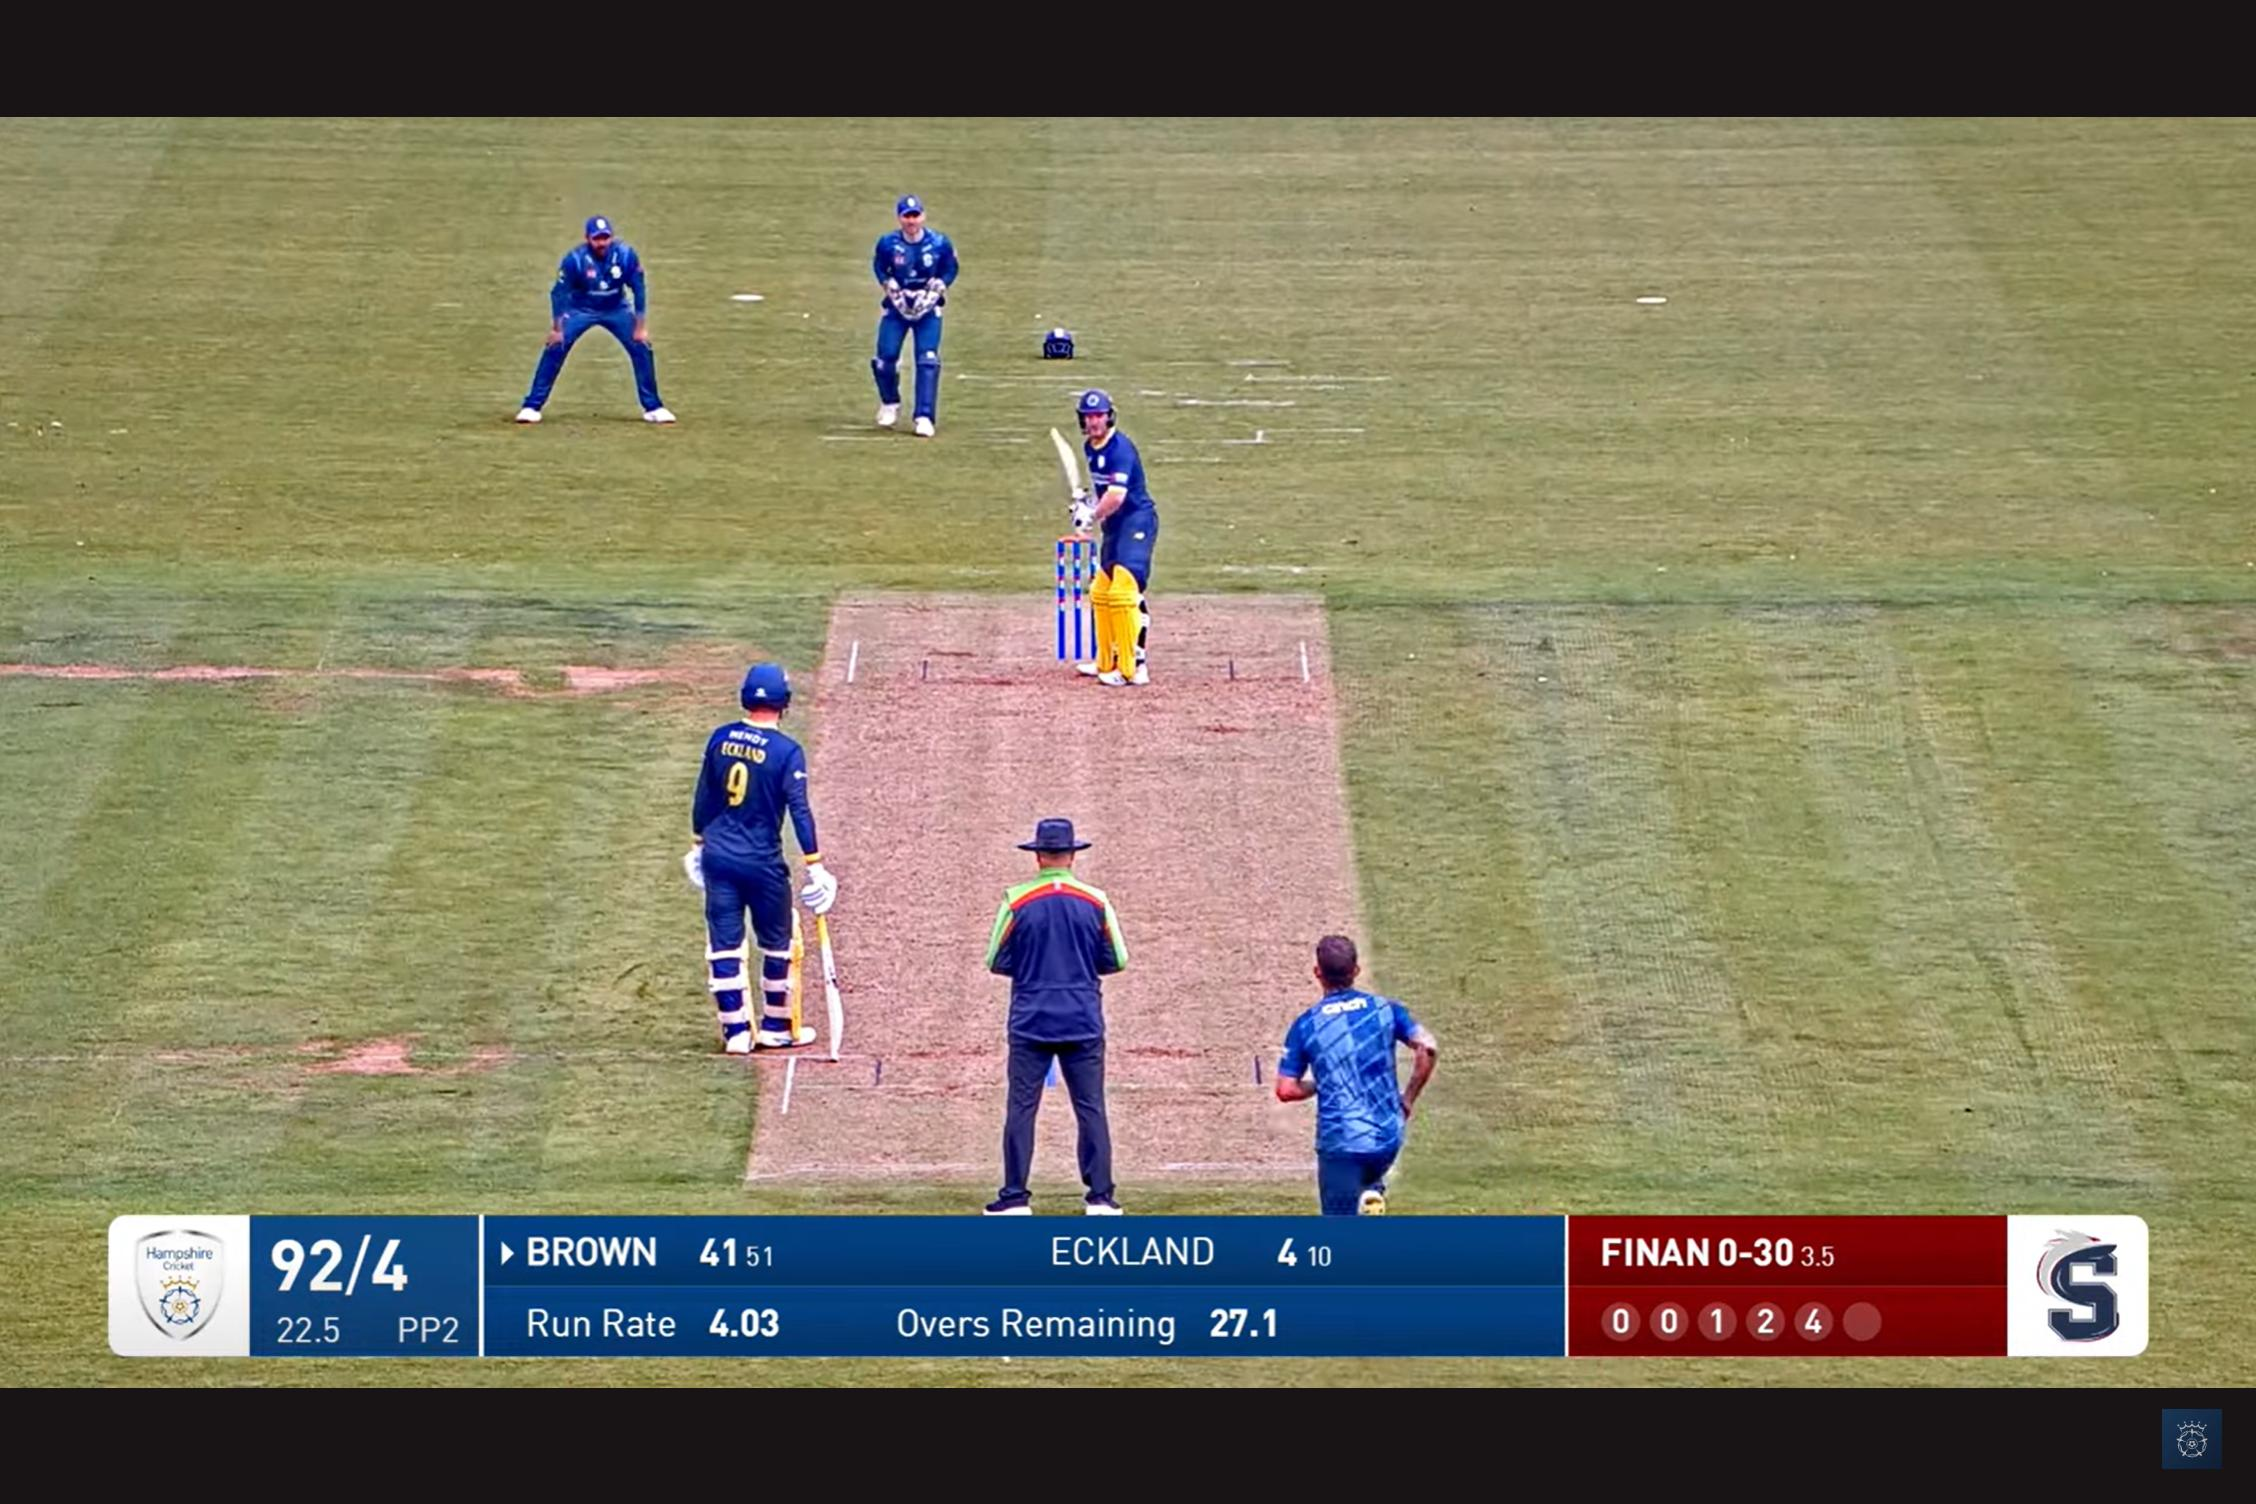batsman: (1005, 379, 1193, 708)
bowler running in: (1249, 906, 1465, 1234)
non striker: (670, 645, 876, 1046)
umpire: (965, 787, 1158, 1209)
wicket keeper: (833, 183, 980, 433)
